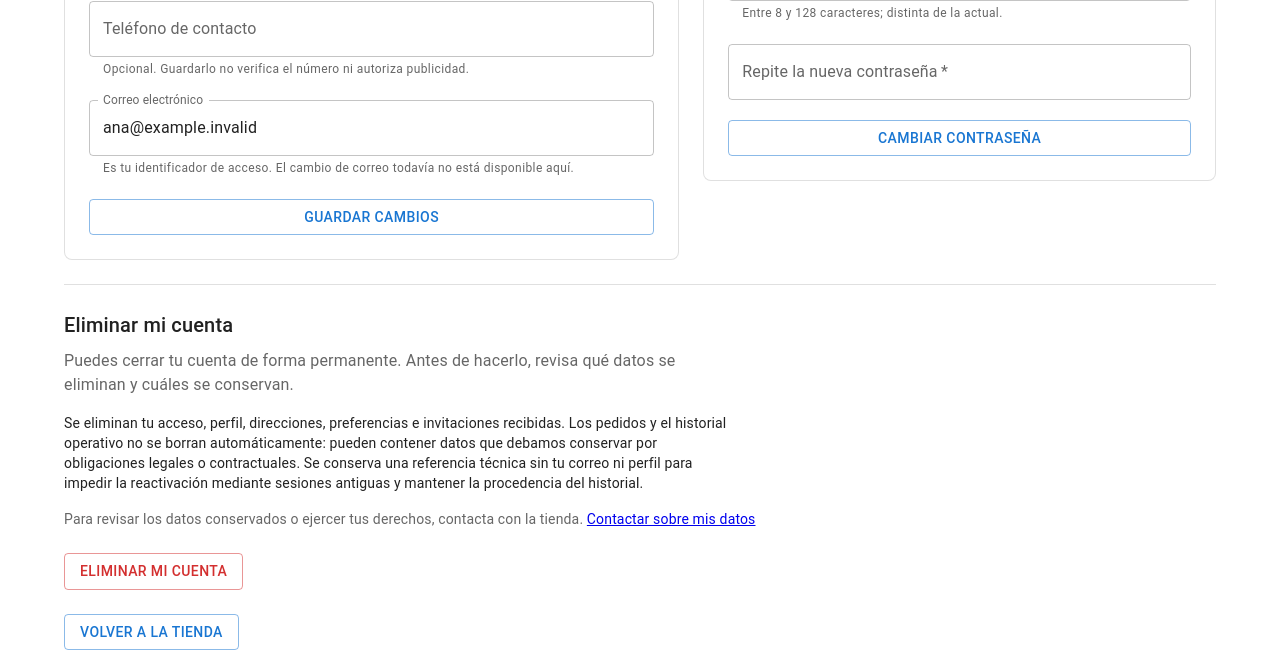
Scenario: keeps the account and dialog on deletion failure with actionable copy
(page scrolled)
Step 1. Click the button "Eliminar mi cuenta" → (154, 572), box [64,553,243,590]
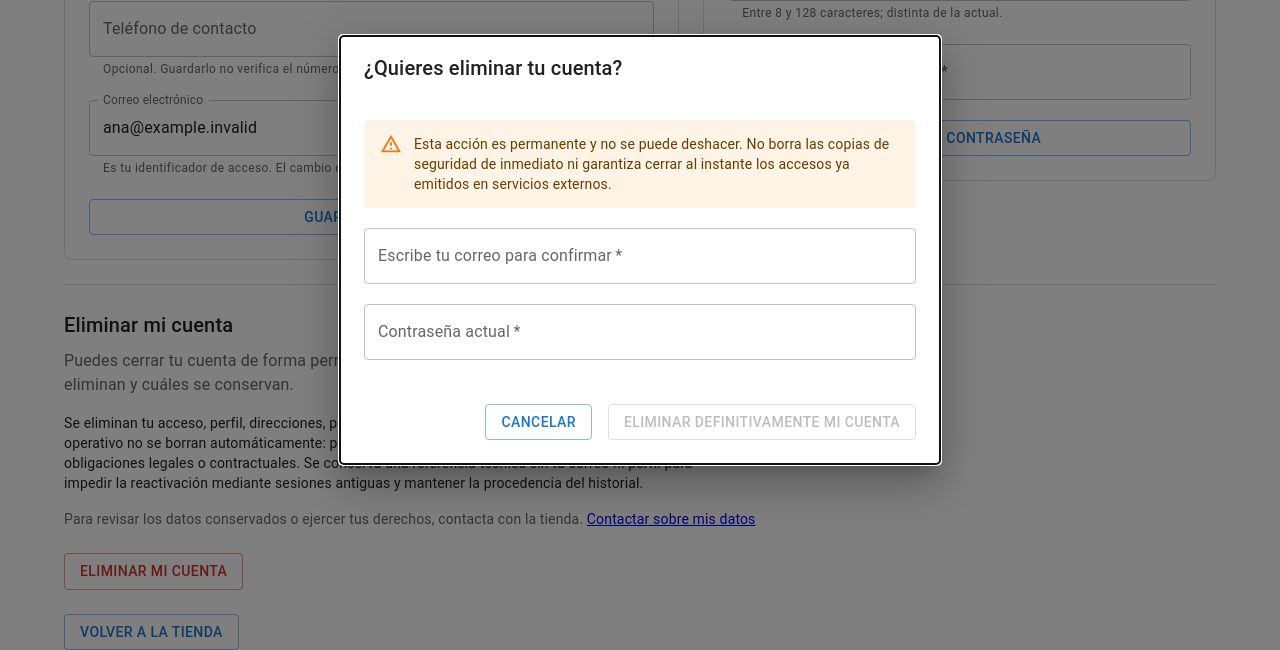
Step 2. Type "ana@example.invalid" into the field labelled "Escribe tu correo para confirmar" → (640, 256), box [364,228,916,284]
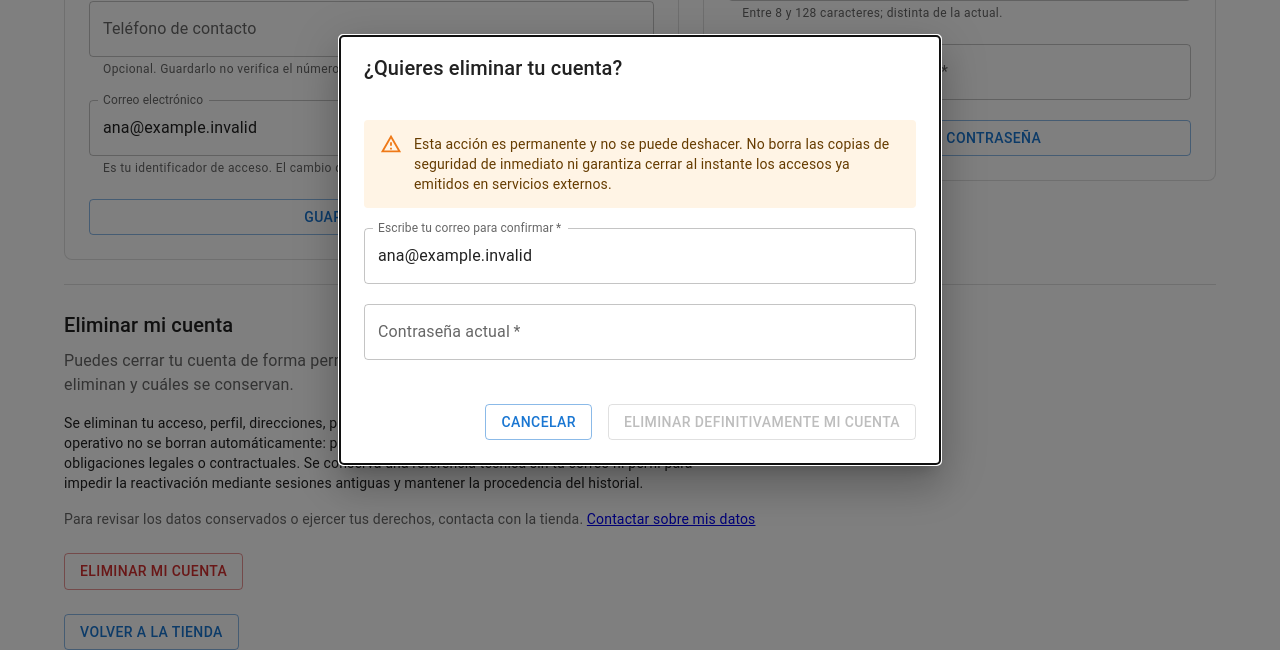
Step 3. Type "current-secret" into the password field labelled "Contraseña actual" → (640, 332), box [364,304,916,360]
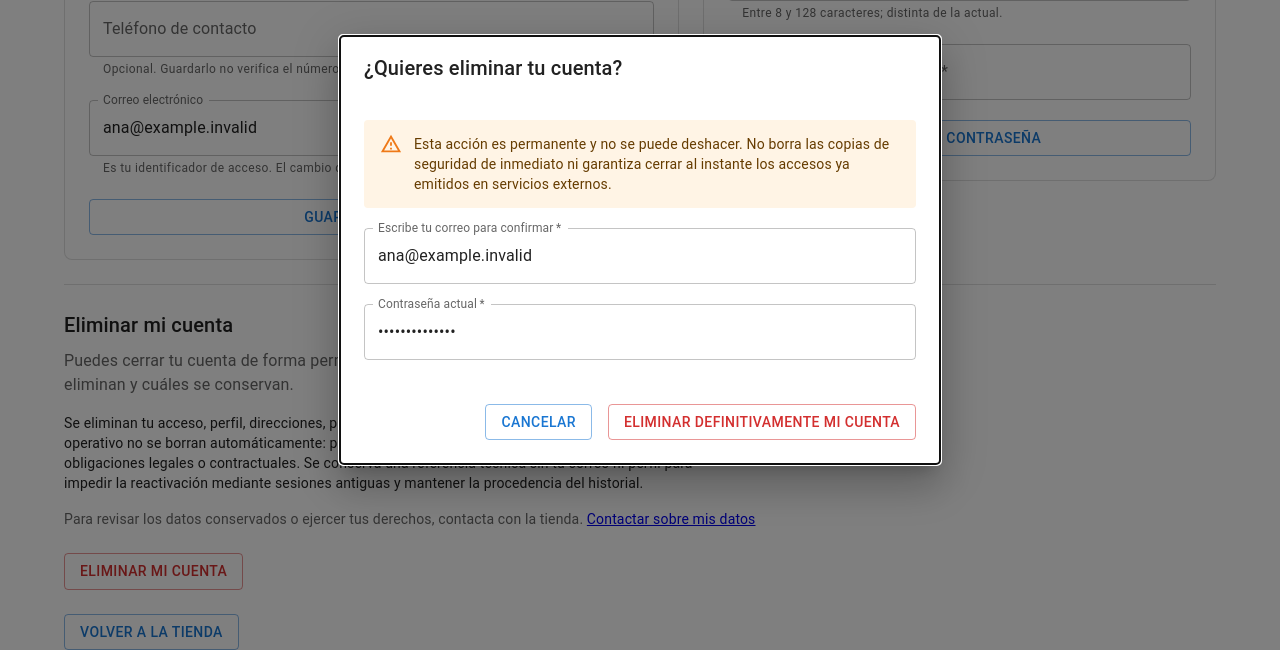
Step 4. Click the button "Eliminar definitivamente mi cuenta" → (762, 422), box [608,404,916,440]
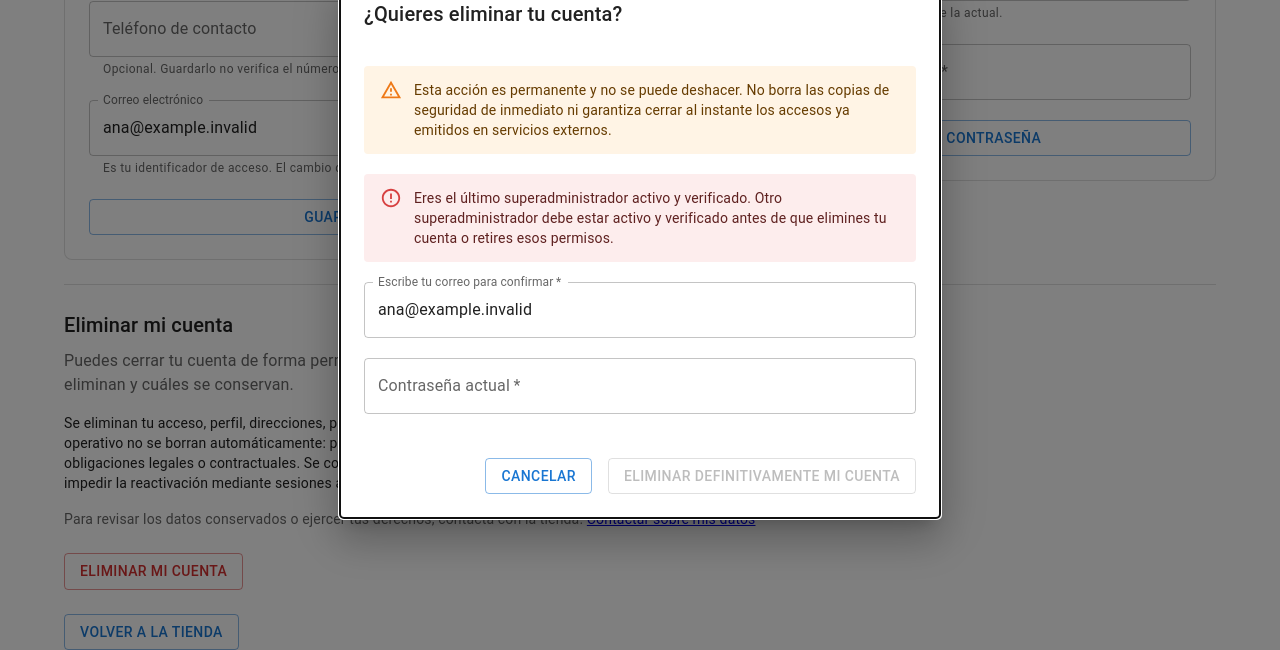
Expected: the text "Eres el último superadministrador activo y verificado. Otro superadministrador debe estar activo y verificado antes de q" is shown, [414,190,887,246]
Expected: the password field labelled "Contraseña actual" is empty, [364,358,916,414]
